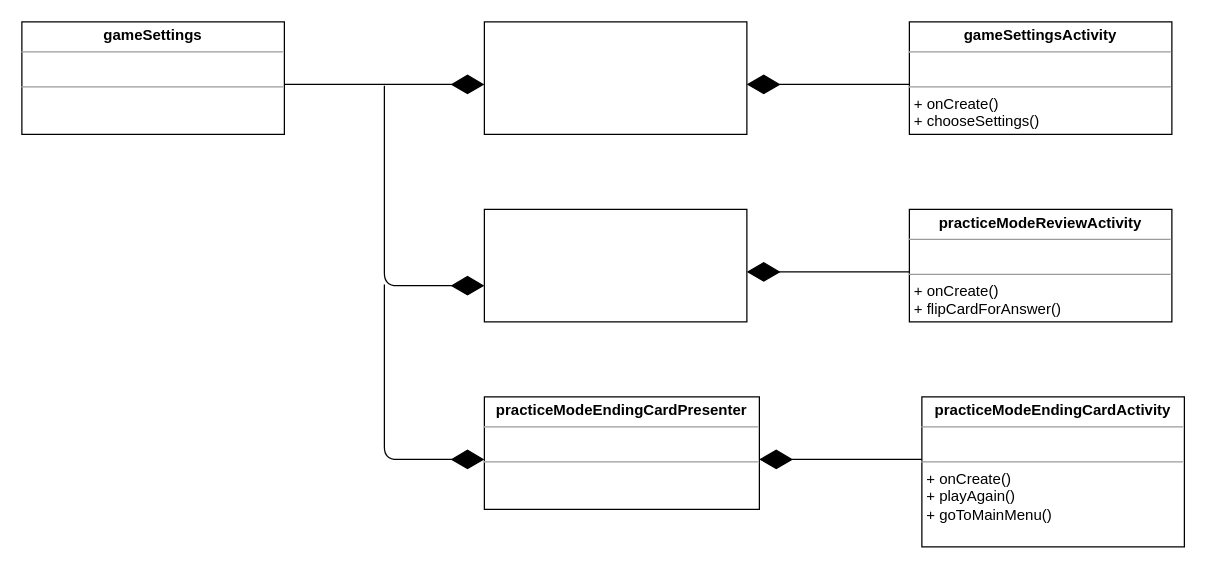
This 1206x569 diagram has some shape labels left out. The centre of each missing label's shape, as x and y in pixels:
gameSettingsPresenter: point (615, 77)
practiceModeReviewPresenter: point (615, 265)
